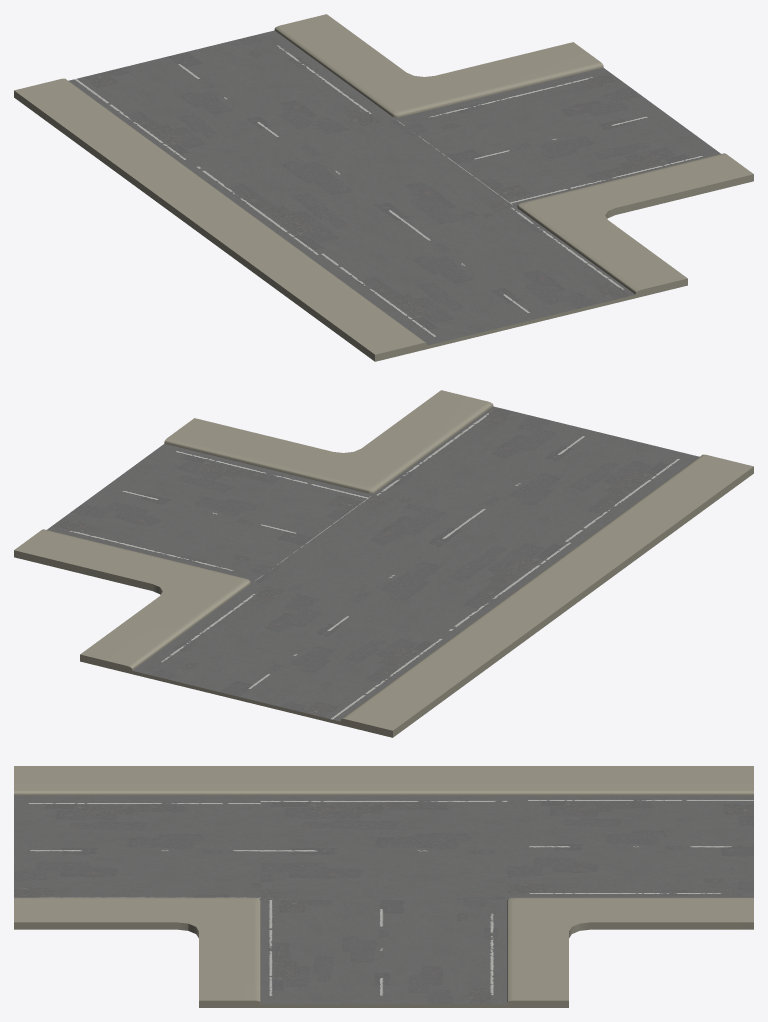
The model's file is T_Junction.fbx.
3 renders of one model, top to bottom at view 1: azimuth 30°, elevation 25°; view 2: azimuth 150°, elevation 25°; view 3: azimuth 270°, elevation 25°, orthographic. The views are drawn at different scales.
Visible parts, largest first — view 1: T_Junction; view 2: T_Junction; view 3: T_Junction.
Part boxes in pixels (bbox=[...]): T_Junction: bbox=[14, 14, 753, 361]; T_Junction: bbox=[14, 390, 753, 737]; T_Junction: bbox=[14, 766, 753, 1007].
Size of the model in its own units: 27 by 0.3911 by 36.
